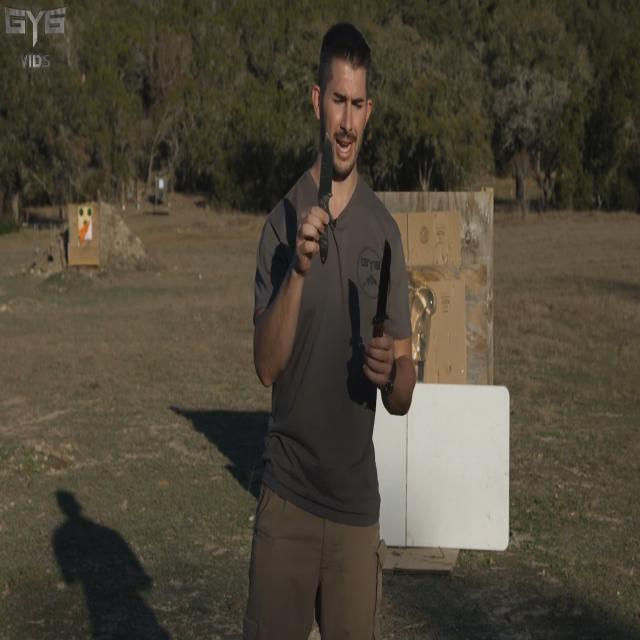knife: (315, 133, 335, 269), (373, 235, 394, 337)
